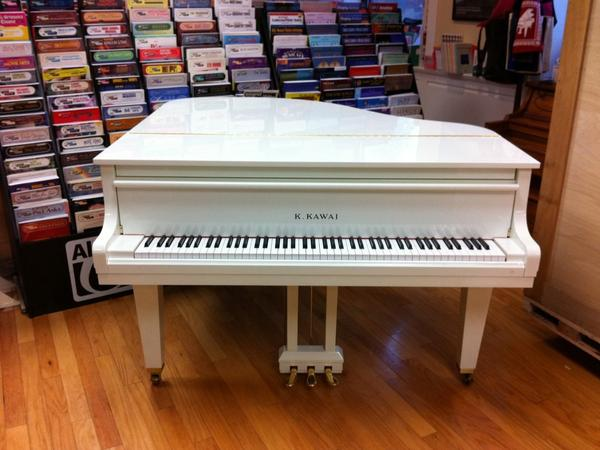GrandPiano: (84, 132, 555, 304)
